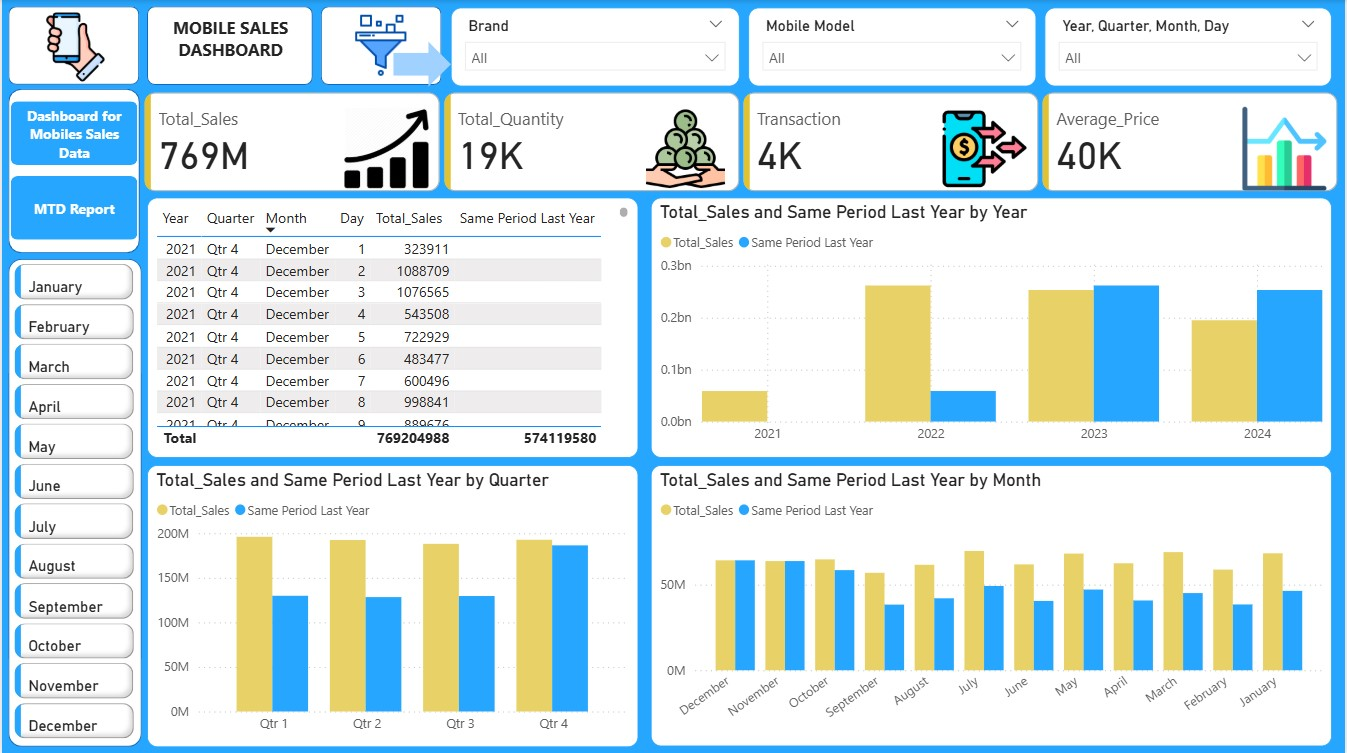

Layout of this report page (visuals, bound fields, positions):
{"tool":"powerbi","page":{"name":"Same Period Last Year","canvas":[1280,720],"ordinal":2},"visuals":[{"type":"shape","box":[6,6,125,75],"z":0},{"type":"image","box":[8.3,7.1,123.8,75],"z":1000},{"type":"shape","box":[6,84.4,125.4,156.7],"z":2000},{"type":"cardVisual","fields":{"Data":["Mobiles_Sales_Data.Total_Sales","Mobiles_Sales_Data.Total_Quantity","Mobiles_Sales_Data.Transaction","Mobiles_Sales_Data.Average_Price"]},"box":[131.4,83.2,1148.8,104.9],"z":3000},{"type":"slicer","fields":{"Values":["Mobiles_Sales_Data.Brand"]},"box":[427,7,275,75],"z":4000},{"type":"shape","box":[303,6,115,75],"z":5000},{"type":"image","box":[303,8,114,70],"z":6000},{"type":"shape","box":[372.4,39.1,55.2,43.7],"z":7000},{"type":"shape","box":[138,6,158,75],"z":8000},{"type":"slicer","fields":{"Values":["Mobiles_Sales_Data.Mobile Model"]},"box":[711,7,274,75],"z":9000},{"type":"slicer","fields":{"Values":["Custom_Calender.Date.Variation.Date Hierarchy.Year","Custom_Calender.Date.Variation.Date Hierarchy.Quarter","Custom_Calender.Date.Variation.Date Hierarchy.Month","Custom_Calender.Date.Variation.Date Hierarchy.Day"]},"box":[992.9,7.1,273.8,75],"z":10000},{"type":"textbox","box":[145,10,145,67],"z":11000},{"type":"shape","box":[6,246.4,127.4,465.5],"z":12000},{"type":"advancedSlicerVisual","fields":{"Values":["Custom_Calender.Date.Variation.Date Hierarchy.Month"]},"box":[7.3,246.3,123.2,464.6],"z":13000},{"type":"tableEx","fields":{"Values":["Custom_Calender.Date.Variation.Date Hierarchy.Year","Custom_Calender.Date.Variation.Date Hierarchy.Quarter","Custom_Calender.Date.Variation.Date Hierarchy.Month","Custom_Calender.Date.Variation.Date Hierarchy.Day","Mobiles_Sales_Data.Total_Sales","Mobiles_Sales_Data.Same Period Last Year"]},"box":[138.1,188.1,467.9,247.6],"z":14000},{"type":"clusteredColumnChart","fields":{"Category":["Custom_Calender.Date.Variation.Date Hierarchy.Year","Custom_Calender.Date.Variation.Date Hierarchy.Quarter","Custom_Calender.Date.Variation.Date Hierarchy.Month","Custom_Calender.Date.Variation.Date Hierarchy.Day"],"Y":["Mobiles_Sales_Data.Total_Sales","Mobiles_Sales_Data.Same Period Last Year"]},"box":[617.9,188.1,648.8,247.6],"z":15000},{"type":"clusteredColumnChart","fields":{"Category":["Custom_Calender.Date.Variation.Date Hierarchy.Year","Custom_Calender.Date.Variation.Date Hierarchy.Quarter","Custom_Calender.Date.Variation.Date Hierarchy.Month","Custom_Calender.Date.Variation.Date Hierarchy.Day"],"Y":["Mobiles_Sales_Data.Total_Sales","Mobiles_Sales_Data.Same Period Last Year"]},"box":[138.1,442.9,467.9,269],"z":16000},{"type":"clusteredColumnChart","fields":{"Category":["Custom_Calender.Date.Variation.Date Hierarchy.Year","Custom_Calender.Date.Variation.Date Hierarchy.Quarter","Custom_Calender.Date.Variation.Date Hierarchy.Month","Custom_Calender.Date.Variation.Date Hierarchy.Day"],"Y":["Mobiles_Sales_Data.Total_Sales","Mobiles_Sales_Data.Same Period Last Year"]},"box":[617.9,442.9,648.8,267.9],"z":17000},{"type":"pageNavigator","box":[8.3,96.4,121.4,133.3],"z":18000}]}

Visuals, with their boxes in screenshot pixels (x1, y1, x2, y2), scaled from the page's 1280x720 canvas onto the 1347x753 screenshot:
shape: left=6, top=6, right=138, bottom=85
image: left=9, top=7, right=139, bottom=86
shape: left=6, top=88, right=138, bottom=252
cardVisual - Mobiles_Sales_Data.Total_Sales x Mobiles_Sales_Data.Total_Quantity: left=138, top=87, right=1346, bottom=197
slicer - Mobiles_Sales_Data.Brand: left=449, top=7, right=739, bottom=86
shape: left=319, top=6, right=440, bottom=85
image: left=319, top=8, right=439, bottom=82
shape: left=392, top=41, right=450, bottom=87
shape: left=145, top=6, right=311, bottom=85
slicer - Mobiles_Sales_Data.Mobile Model: left=748, top=7, right=1037, bottom=86
slicer - Custom_Calender.Date.Variation.Date Hierarchy.Year x Custom_Calender.Date.Variation.Date Hierarchy.Quarter: left=1045, top=7, right=1333, bottom=86
textbox: left=153, top=10, right=305, bottom=81
shape: left=6, top=258, right=140, bottom=745
advancedSlicerVisual - Custom_Calender.Date.Variation.Date Hierarchy.Month: left=8, top=258, right=137, bottom=743
tableEx - Custom_Calender.Date.Variation.Date Hierarchy.Year x Custom_Calender.Date.Variation.Date Hierarchy.Quarter: left=145, top=197, right=638, bottom=456
clusteredColumnChart - Custom_Calender.Date.Variation.Date Hierarchy.Year x Custom_Calender.Date.Variation.Date Hierarchy.Quarter: left=650, top=197, right=1333, bottom=456
clusteredColumnChart - Custom_Calender.Date.Variation.Date Hierarchy.Year x Custom_Calender.Date.Variation.Date Hierarchy.Quarter: left=145, top=463, right=638, bottom=745
clusteredColumnChart - Custom_Calender.Date.Variation.Date Hierarchy.Year x Custom_Calender.Date.Variation.Date Hierarchy.Quarter: left=650, top=463, right=1333, bottom=743
pageNavigator: left=9, top=101, right=136, bottom=240
